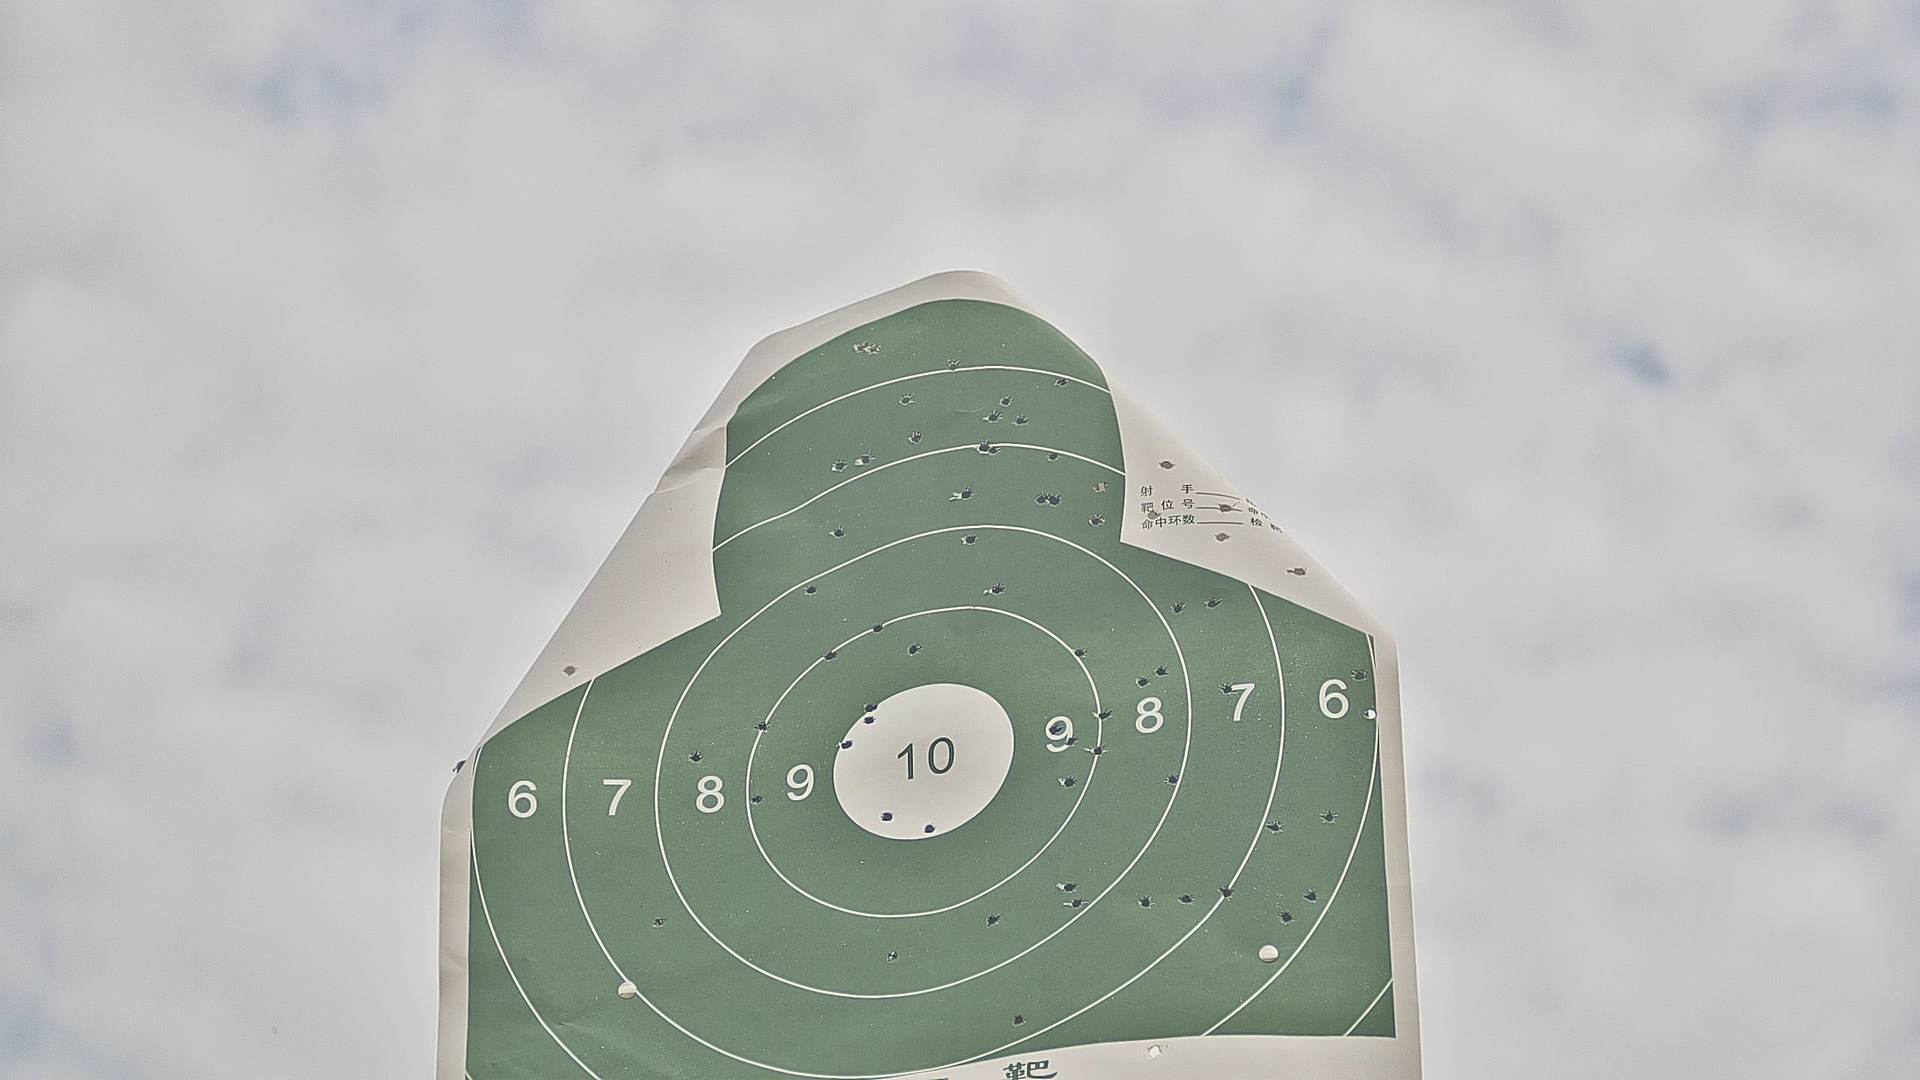hole: (1211, 531, 1232, 545), (1286, 567, 1308, 579), (803, 582, 818, 596), (1138, 894, 1153, 909), (1149, 1044, 1163, 1058), (1267, 819, 1280, 833), (562, 665, 578, 676), (1217, 502, 1233, 514), (833, 458, 847, 471), (986, 913, 1000, 926), (1048, 495, 1063, 506), (858, 452, 870, 467), (887, 949, 899, 964), (1178, 893, 1192, 905), (1222, 885, 1234, 899), (1095, 742, 1105, 758), (1091, 514, 1102, 527), (976, 439, 988, 452), (960, 487, 972, 500), (1098, 708, 1110, 721), (1073, 646, 1088, 657), (909, 641, 919, 655), (862, 702, 877, 712), (1072, 895, 1083, 910), (1160, 459, 1175, 469), (1062, 882, 1077, 891), (948, 359, 960, 371), (1055, 375, 1067, 386), (965, 533, 977, 545), (752, 793, 764, 804), (1063, 775, 1075, 787), (1323, 810, 1335, 822), (1280, 910, 1292, 922), (1364, 707, 1375, 719), (1172, 601, 1185, 612), (1135, 676, 1149, 687), (1354, 669, 1365, 682), (1147, 510, 1160, 521), (756, 721, 770, 731), (687, 752, 702, 761), (910, 431, 920, 443), (1035, 493, 1046, 505), (1207, 597, 1217, 609), (825, 649, 837, 659), (841, 738, 852, 750), (923, 822, 934, 833), (1013, 1015, 1025, 1026), (1166, 771, 1178, 782), (1305, 890, 1316, 902), (899, 394, 913, 404), (651, 916, 665, 926), (1001, 396, 1011, 406), (986, 411, 997, 422), (833, 526, 844, 537), (992, 584, 1002, 595), (1048, 724, 1059, 735), (1220, 683, 1230, 694), (869, 342, 878, 353), (872, 622, 884, 632), (862, 713, 874, 723), (882, 810, 891, 822), (1067, 735, 1076, 746), (1015, 415, 1026, 425), (1048, 451, 1056, 462), (1097, 480, 1105, 491), (1156, 665, 1164, 675), (857, 342, 865, 349), (992, 444, 997, 456)
kernel: (919, 757, 926, 760)
target: (469, 303, 1400, 1080)
ten: (824, 680, 1021, 837)
